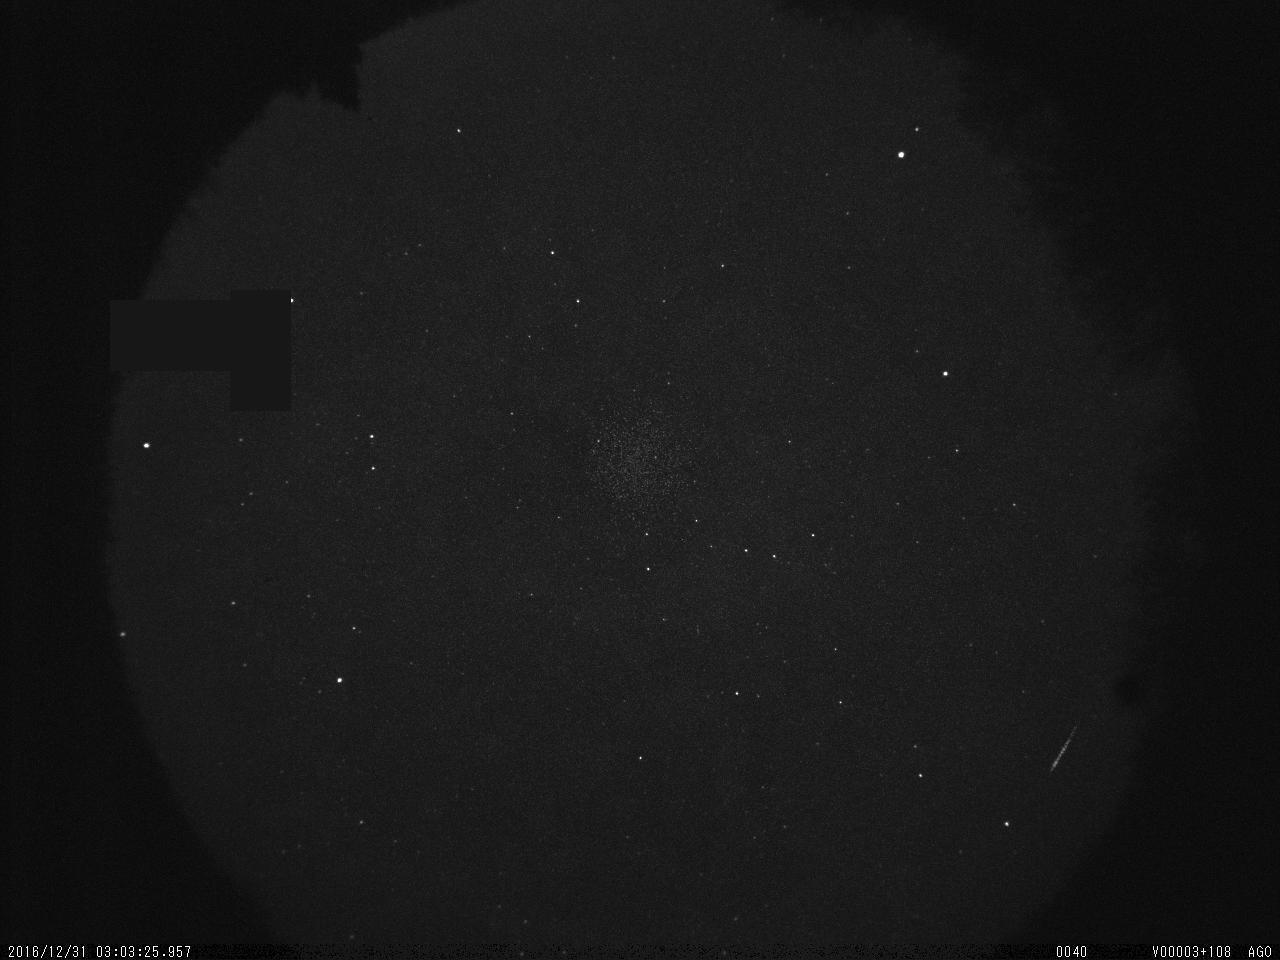meteor: (969, 705, 1105, 787)
